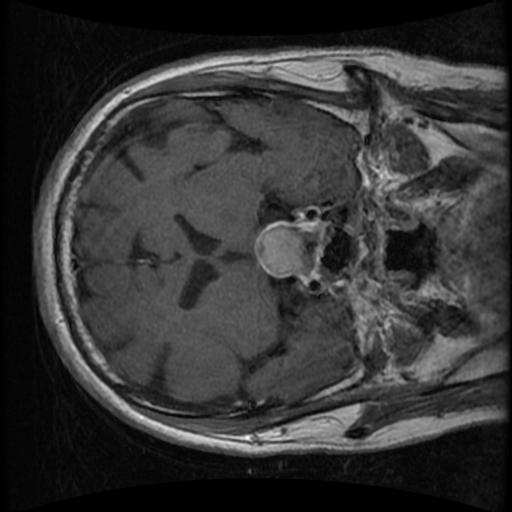pituitary tumour: (258, 222, 326, 280)
